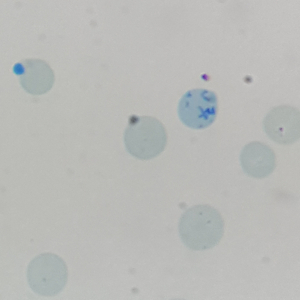aggregate reticulocyte: (176, 87, 220, 131)
erythrocyte: (121, 113, 170, 162), (11, 56, 57, 97), (238, 139, 279, 181), (261, 103, 300, 146)
punctate reticulocyte: (175, 202, 226, 252), (24, 251, 70, 299)
